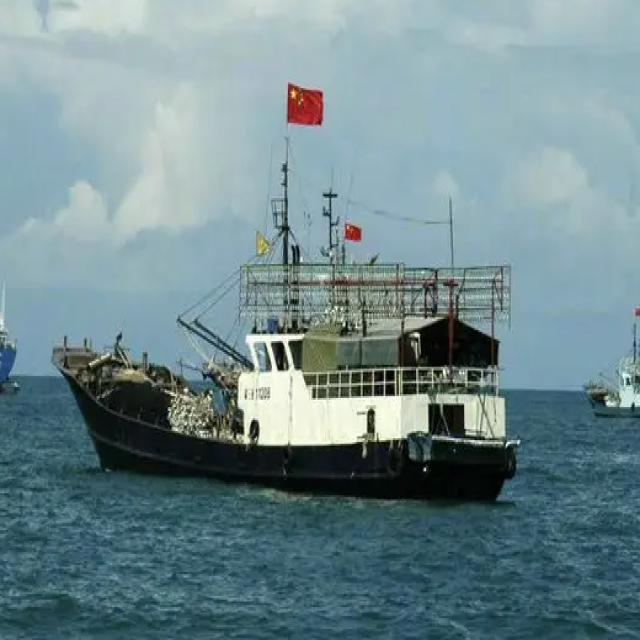fishing boat: (50, 226, 519, 502)
